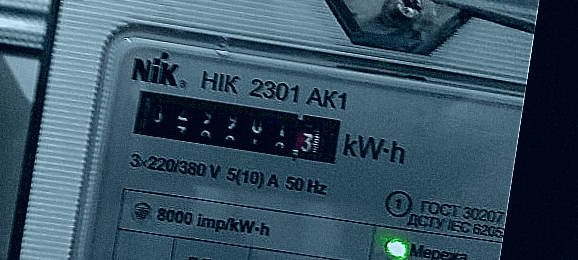0: (248, 110, 266, 136), (148, 101, 167, 124)
1: (273, 114, 289, 139)
2: (173, 102, 192, 123)
3: (298, 129, 314, 153)
9: (223, 108, 241, 132), (199, 104, 214, 128)
screen: (118, 78, 353, 175)
